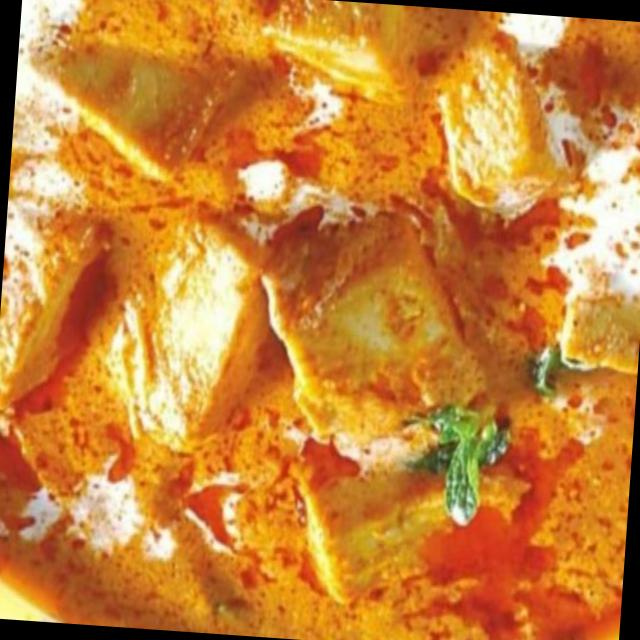ShahiPaneer: (0, 69, 640, 640)
